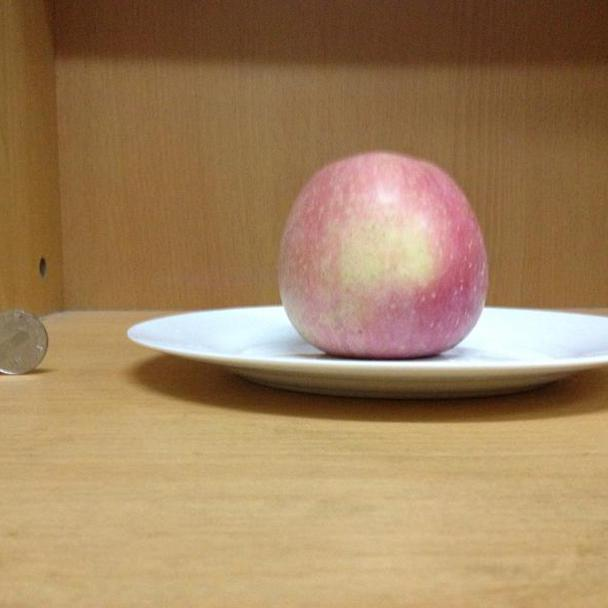apple: (278, 154, 493, 361)
